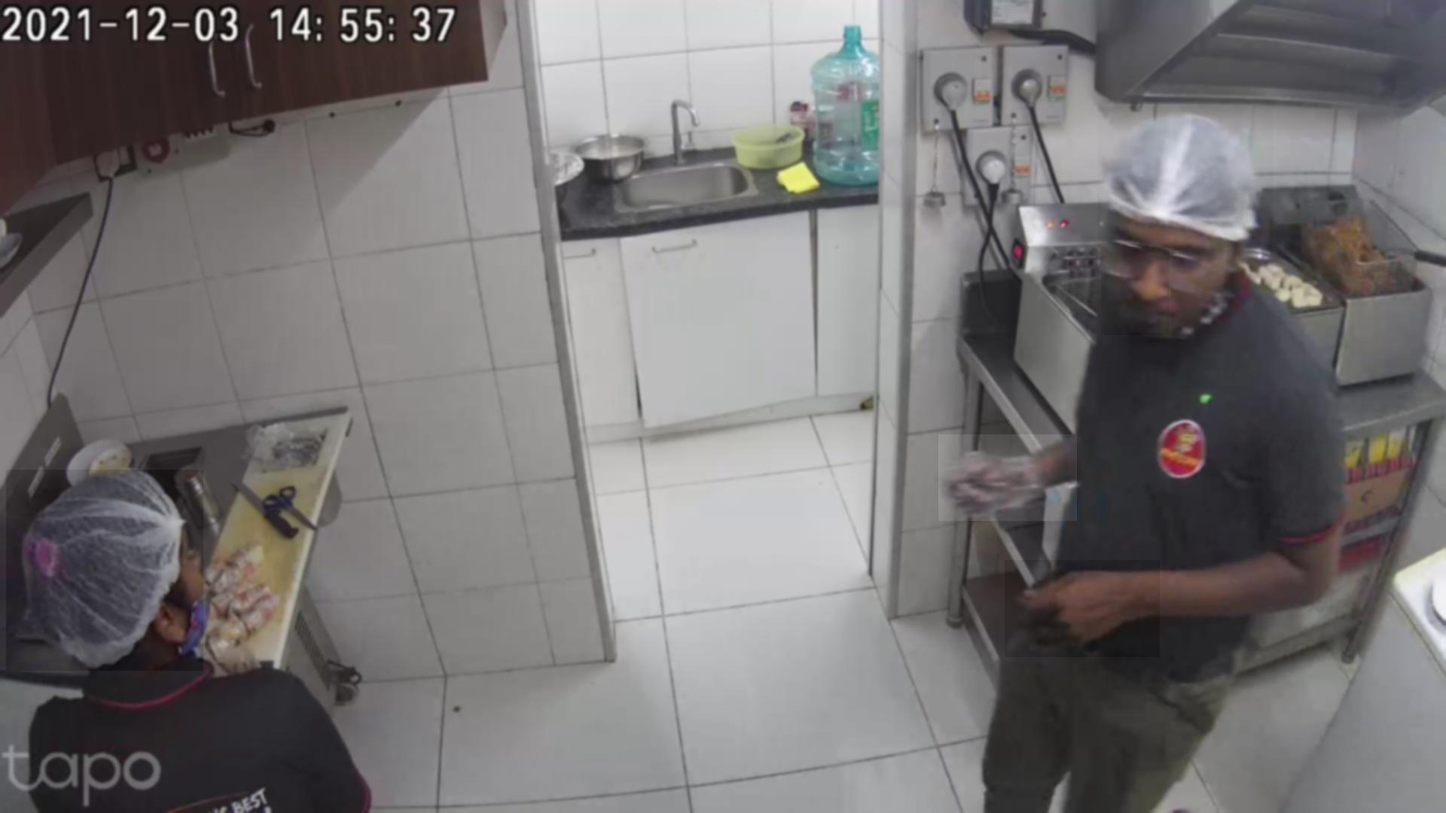apron: (939, 435, 1077, 522)
gloves: (6, 470, 203, 671), (1098, 106, 1274, 247)
no_apron: (1005, 560, 1160, 657)
no_hairnet: (1102, 208, 1170, 335)
